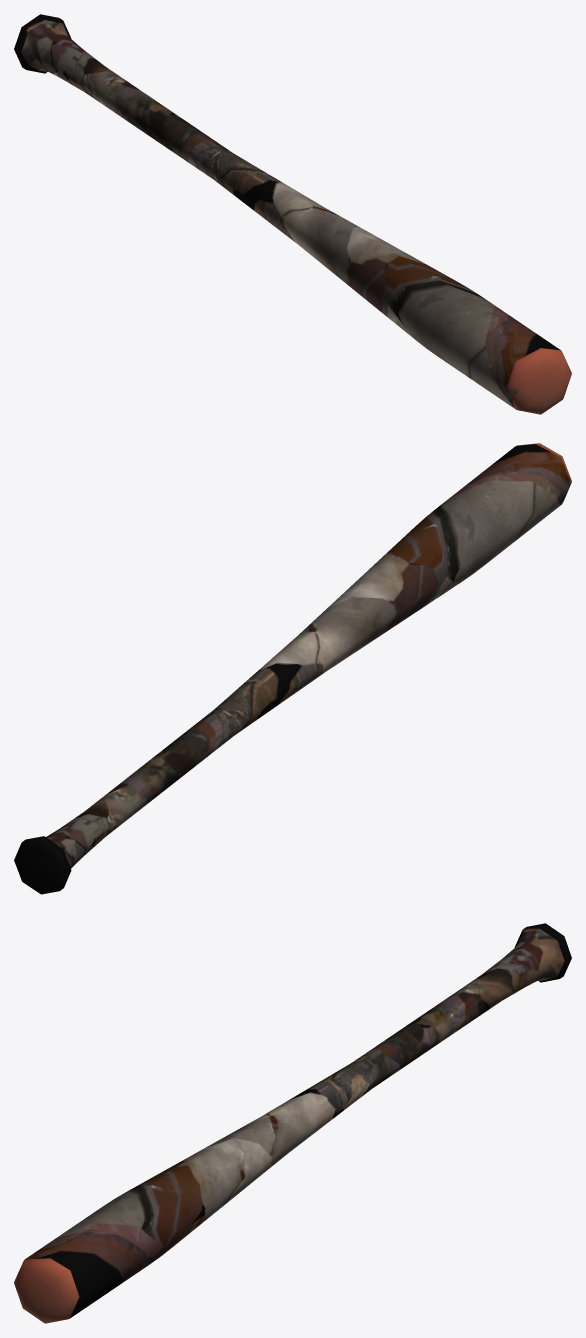
File: baseball_bat2.fbx
The picture shows the model from 3 angles, top to bottom: view 1: azimuth 30°, elevation 25°; view 2: azimuth 150°, elevation 25°; view 3: azimuth 330°, elevation 25°; orthographic projection.
Visible parts, largest first — view 1: baseball_bat2; view 2: baseball_bat2; view 3: baseball_bat2.
Part boxes in pixels (bbox=[...]): baseball_bat2: bbox=[14, 14, 571, 414]; baseball_bat2: bbox=[14, 443, 571, 894]; baseball_bat2: bbox=[14, 923, 571, 1323].
Size of the model in its own units: 11.7 by 14.91 by 160.
